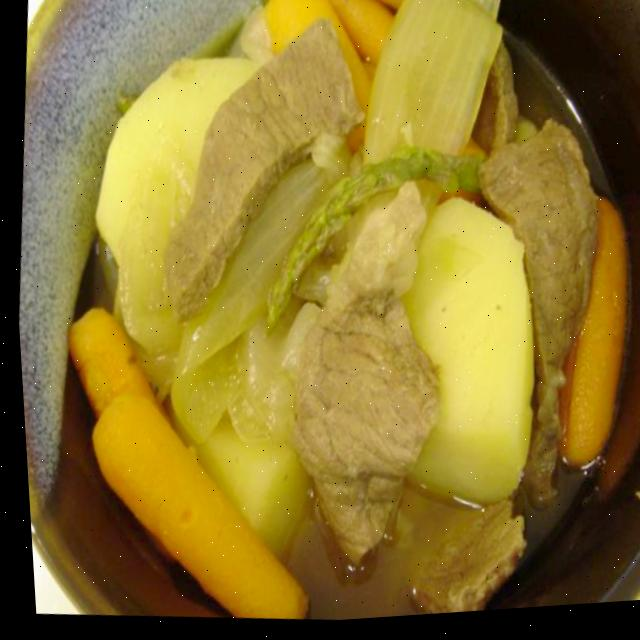牛肉菜式: (0, 0, 511, 472)
